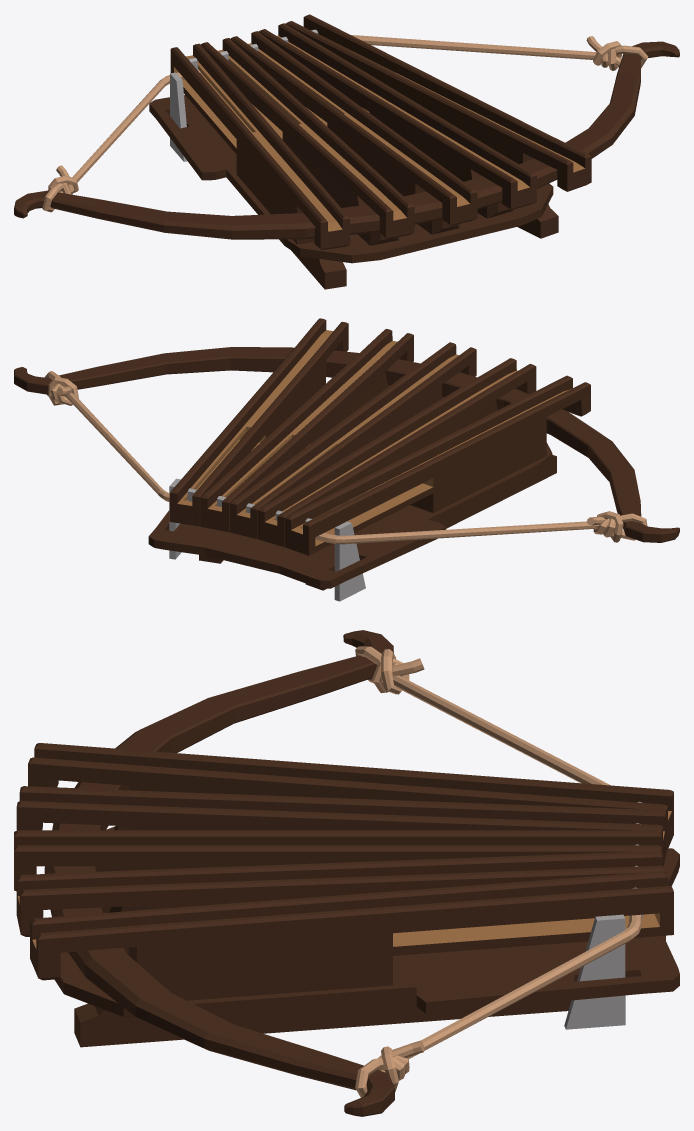
The model's file is BowTrap_2.fbx.
The picture shows the model from 3 angles, top to bottom: view 1: azimuth 30°, elevation 25°; view 2: azimuth 150°, elevation 25°; view 3: azimuth 270°, elevation 25°; orthographic projection. The views are drawn at different scales.
Parts seen in each view (by area): view 1: SmlBowTrap_LP1_SmlBowTrapLegs_low, SmlBowTrapRope_low, SmlBowTrap_LP1_SmlBowTrapLockL_low; view 2: SmlBowTrap_LP1_SmlBowTrapLegs_low, SmlBowTrapRope_low, SmlBowTrap_LP1_SmlBowTrapLockL_low; view 3: SmlBowTrap_LP1_SmlBowTrapLegs_low, SmlBowTrapRope_low, SmlBowTrap_LP1_SmlBowTrapLockL_low.
Boxes of the visible parts, x1,y1,x2,y2 form: SmlBowTrap_LP1_SmlBowTrapLegs_low: (14,14,679,289); SmlBowTrapRope_low: (42,29,648,212); SmlBowTrap_LP1_SmlBowTrapLockL_low: (170,72,187,161); SmlBowTrap_LP1_SmlBowTrapLegs_low: (14,318,679,590); SmlBowTrapRope_low: (44,371,647,544); SmlBowTrap_LP1_SmlBowTrapLockL_low: (169,478,365,601); SmlBowTrap_LP1_SmlBowTrapLegs_low: (14,630,679,1116); SmlBowTrapRope_low: (355,646,643,1097); SmlBowTrap_LP1_SmlBowTrapLockL_low: (564,914,625,1029).
Size of the model in its own units: 117 by 14.19 by 69.19.
